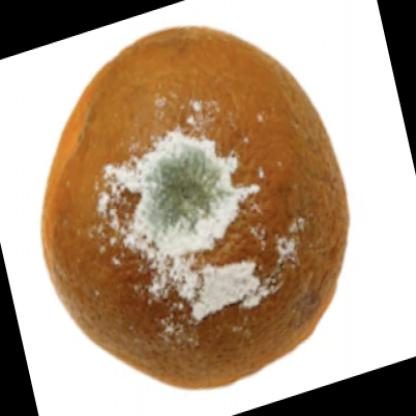rotten_orange: (38, 25, 357, 398)
